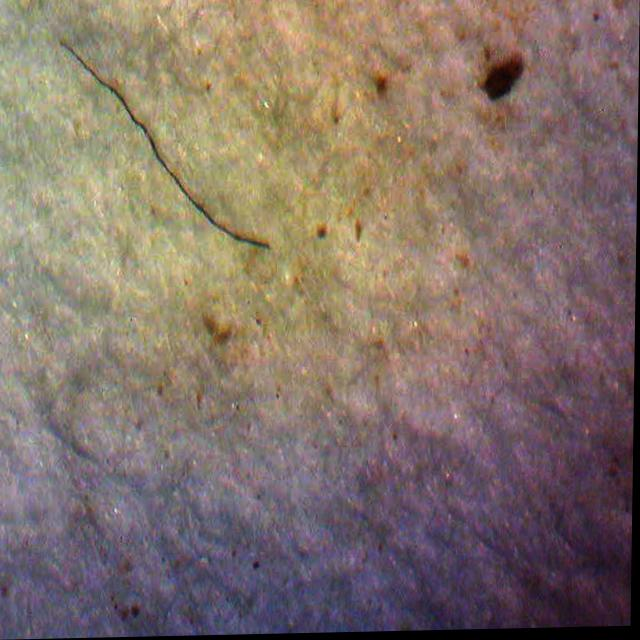microplastic: (62, 42, 272, 253)
